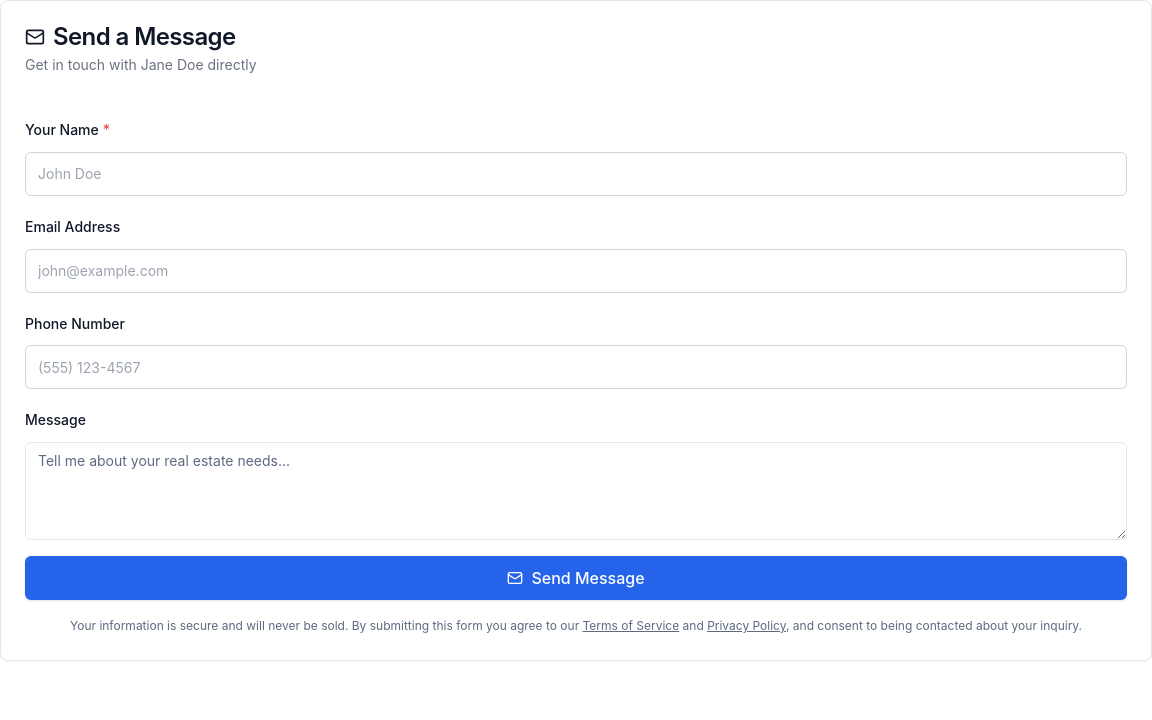
Test case: ContactForm › does not point a phone-only visitor at an inbox they never gave
Type "Dana Rivers" into the field labelled "Your Name*" at (576, 174), box [25,152,1127,196]
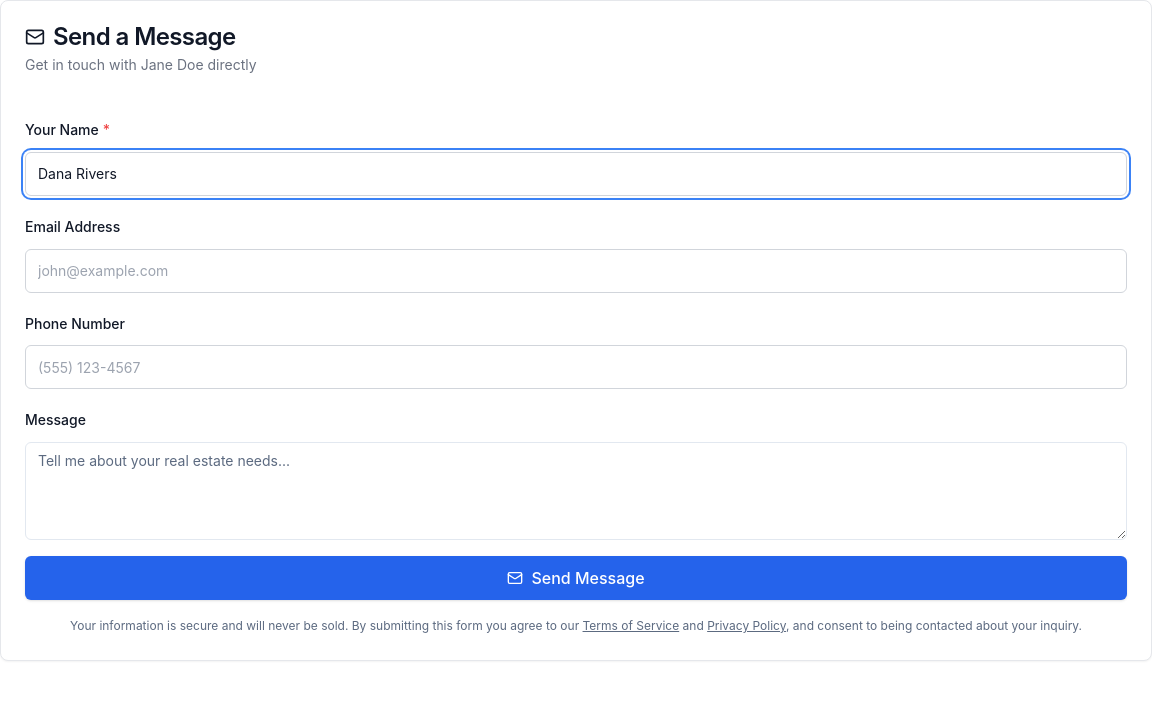
Type "5550142000" into the field labelled "Phone Number" at (576, 367), box [25,345,1127,389]
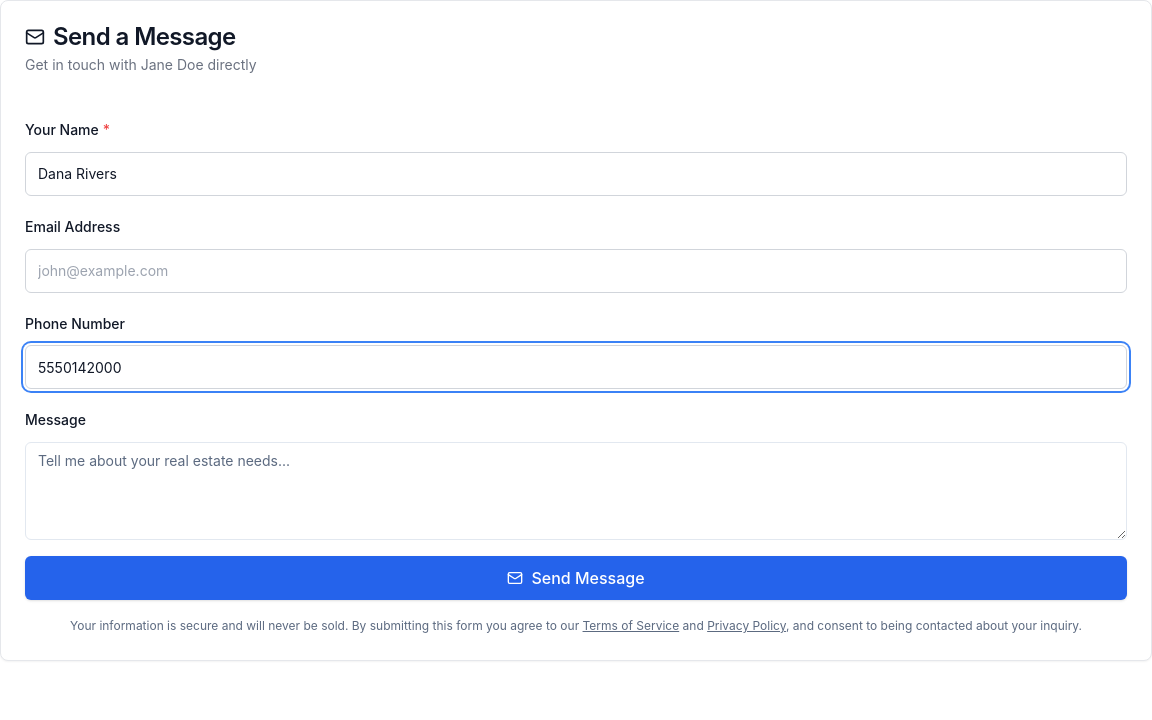
Type "Call me about Maple Avenue." into the text box labelled "Message" at (576, 491), box [25,442,1127,540]
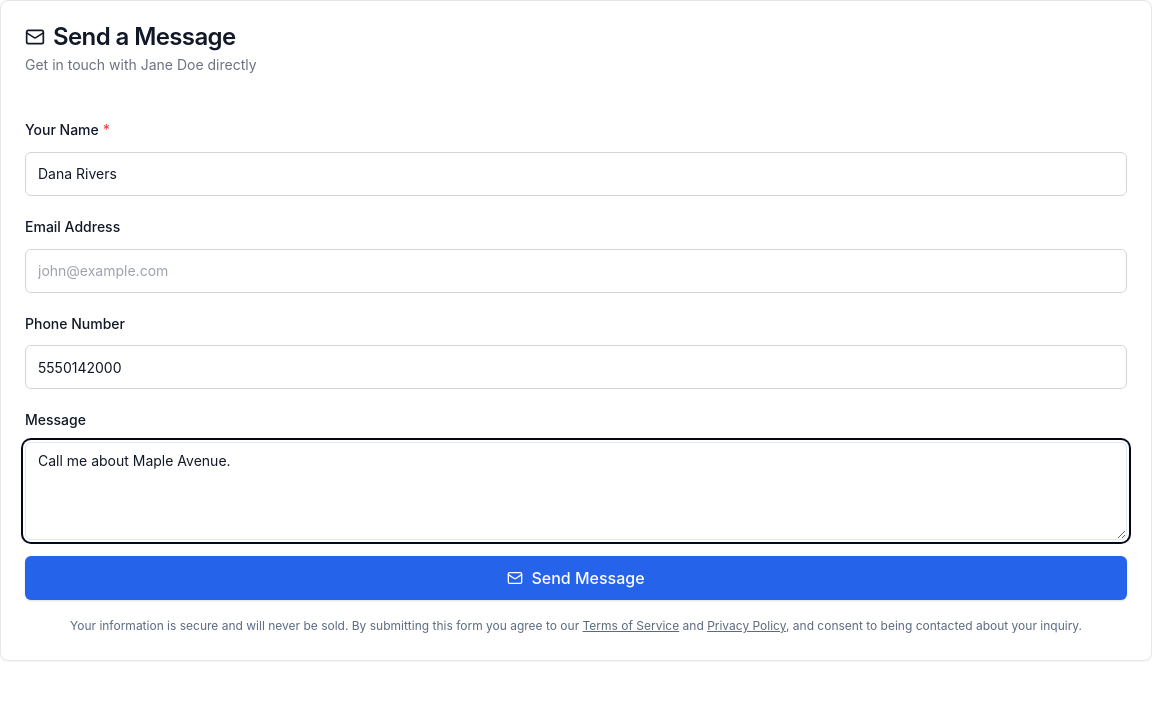
Click the button "Send Message" at (576, 578), box [25,556,1127,600]
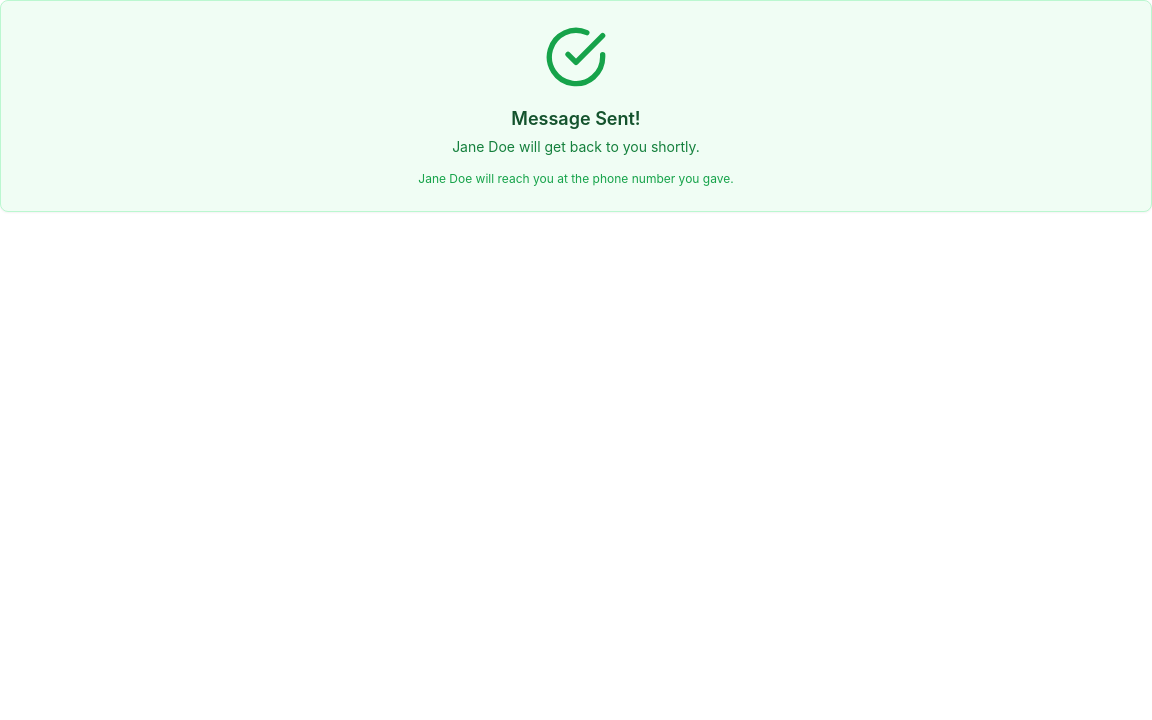
Check: the heading "Message Sent!" is shown, box [511,108,641,129]
Check: the text "Email" is gone
Check: the text "Jane Doe will reach you at the phone number you gave." is shown, box [418,171,734,187]
